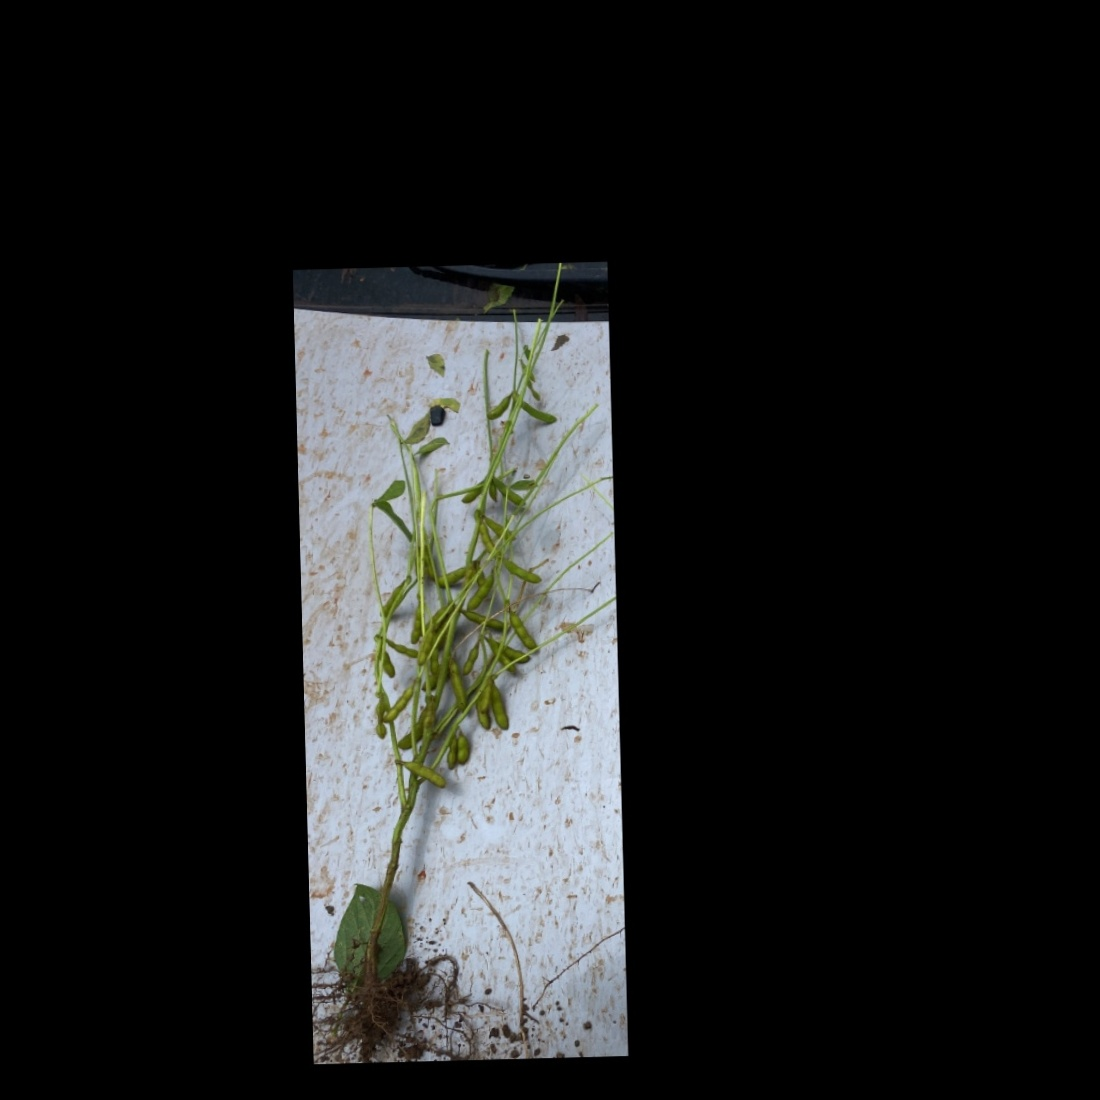pod: (383, 681, 419, 724), (403, 755, 447, 791), (510, 613, 541, 655), (466, 574, 496, 611), (502, 557, 541, 584), (448, 662, 467, 713), (523, 400, 558, 426), (491, 685, 510, 731), (486, 390, 513, 418), (461, 642, 482, 676), (388, 640, 419, 659), (373, 701, 388, 740), (457, 732, 470, 767), (445, 734, 457, 771), (384, 654, 398, 680), (527, 381, 541, 403)
soy: (313, 312, 582, 1026)
